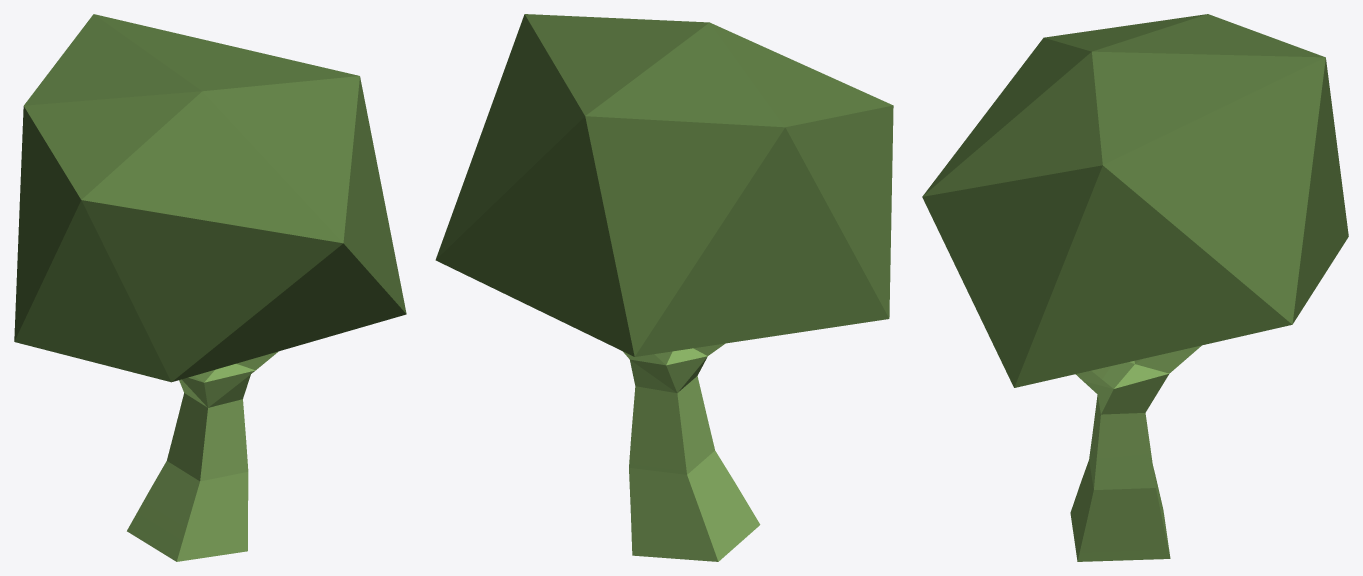
Rendered from Broccoli_01.fbx.
3 views of the same model, side by side, from view 1: azimuth 30°, elevation 25°; view 2: azimuth 150°, elevation 25°; view 3: azimuth 270°, elevation 25° (orthographic). The views are drawn at different scales.
Visible parts, largest first — view 1: Broccoli_01; view 2: Broccoli_01; view 3: Broccoli_01.
Part boxes in pixels (x1,y1,x2,y2): Broccoli_01: (14, 14, 406, 561); Broccoli_01: (435, 14, 893, 561); Broccoli_01: (922, 14, 1348, 561).
Bounding box in the file's own units: 6.82 × 8.82 × 6.96.
